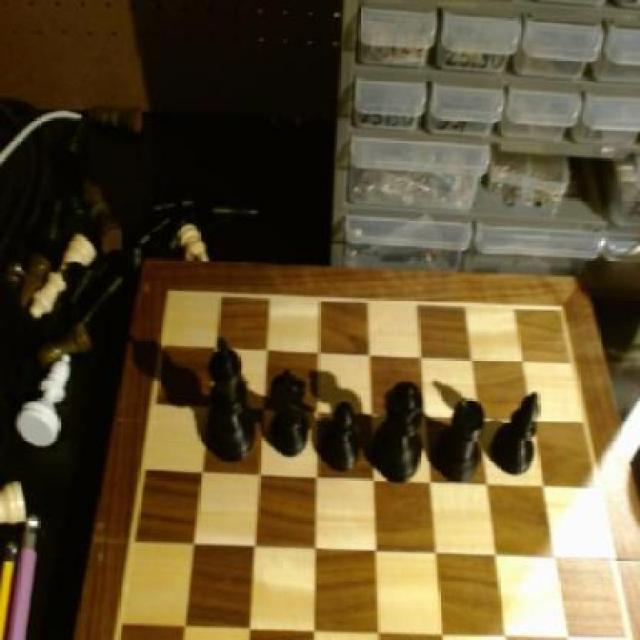bishop: (496, 378, 546, 480)
black-bishop: (204, 334, 258, 464)
black-king: (268, 363, 314, 458)
black-knight: (325, 398, 367, 478)
black-pawn: (375, 377, 424, 489)
black-queen: (437, 396, 488, 492)
